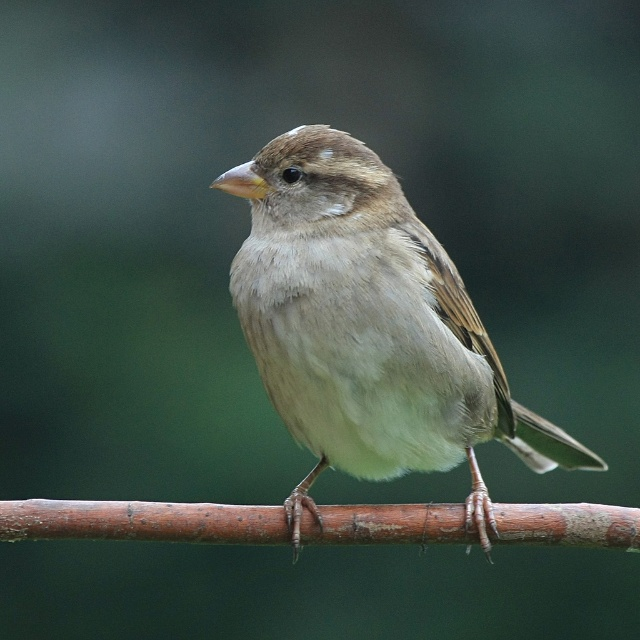Sparrow: (209, 124, 609, 565)
